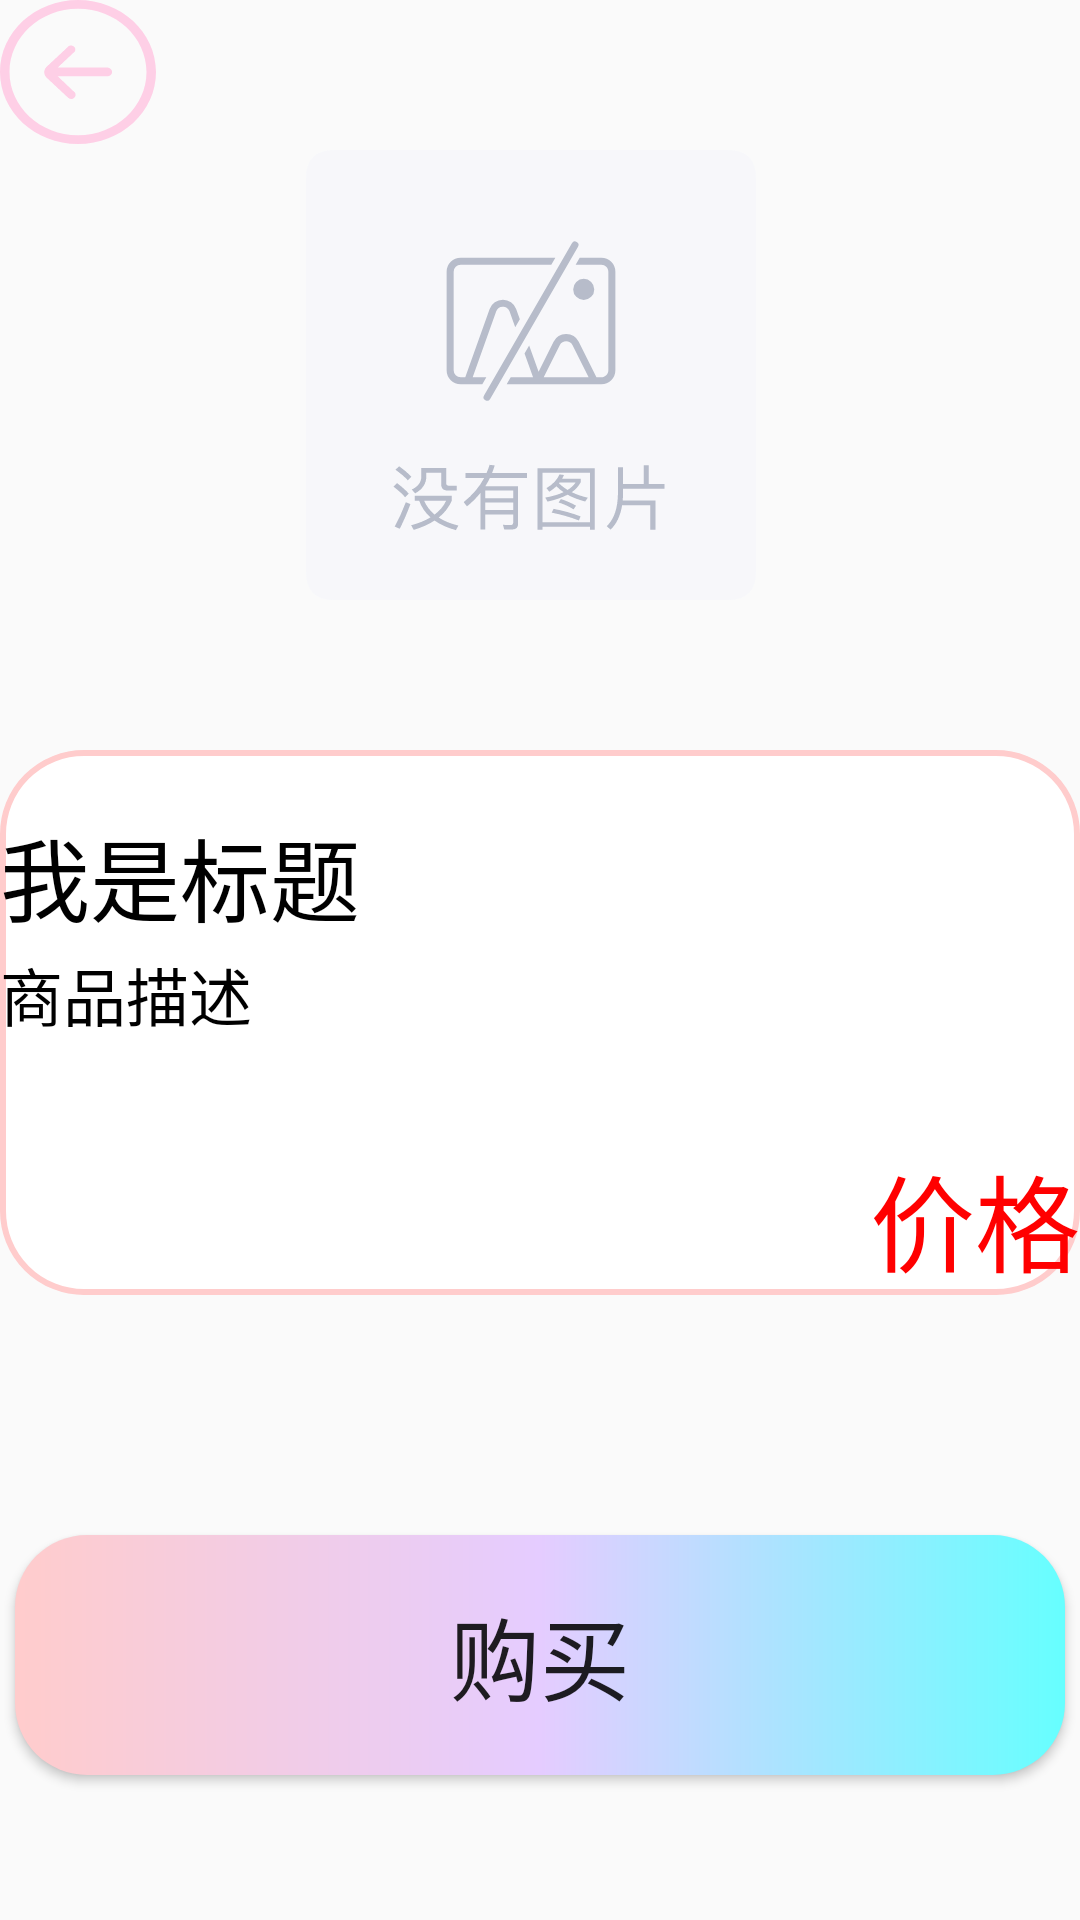

Where icons sit on this 1080 × 1920 app screen, as (x1, y1, x2, y2):
back: (0, 0, 156, 144)
